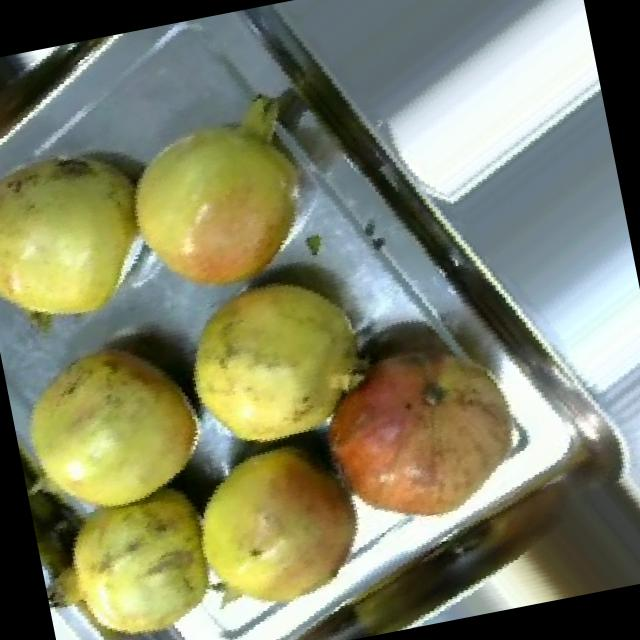fruit: (287, 302, 558, 562), (91, 76, 348, 324), (159, 246, 406, 474), (0, 309, 234, 544), (159, 418, 393, 640), (0, 113, 180, 363), (29, 464, 248, 640)
